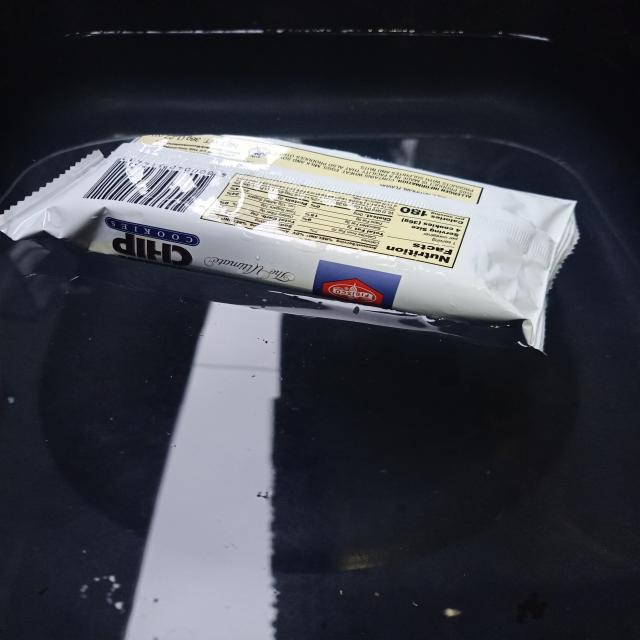Plastic Wrapper: (0, 116, 614, 371)
